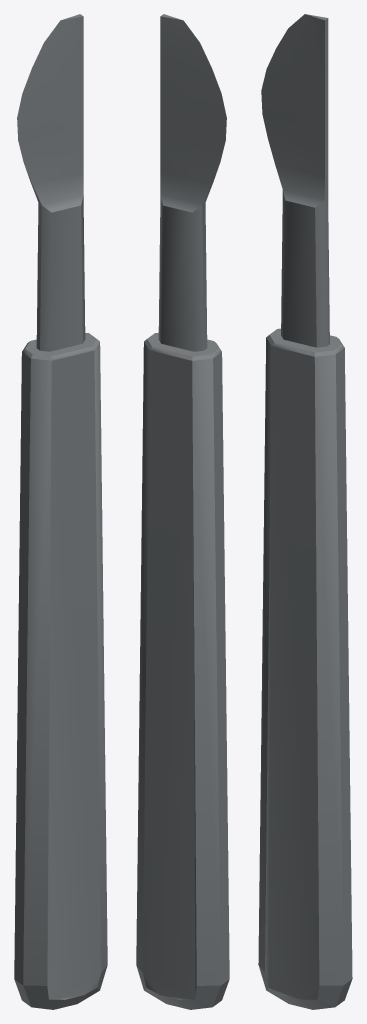
Rendered from PRP_NURSE_TOOL_06.FBX.
3 views of the same model, side by side, from view 1: azimuth 30°, elevation 25°; view 2: azimuth 150°, elevation 25°; view 3: azimuth 330°, elevation 25° (orthographic).
Visible parts, largest first — view 1: PRP_NURSE_TOOL_06; view 2: PRP_NURSE_TOOL_06; view 3: PRP_NURSE_TOOL_06.
Part boxes in pixels (box(x1,y1,x2,y2)): PRP_NURSE_TOOL_06: box(14, 14, 107, 1009); PRP_NURSE_TOOL_06: box(136, 14, 229, 1009); PRP_NURSE_TOOL_06: box(258, 14, 352, 1009).
Size of the model in its own units: 1.42 by 15.51 by 0.7603.
